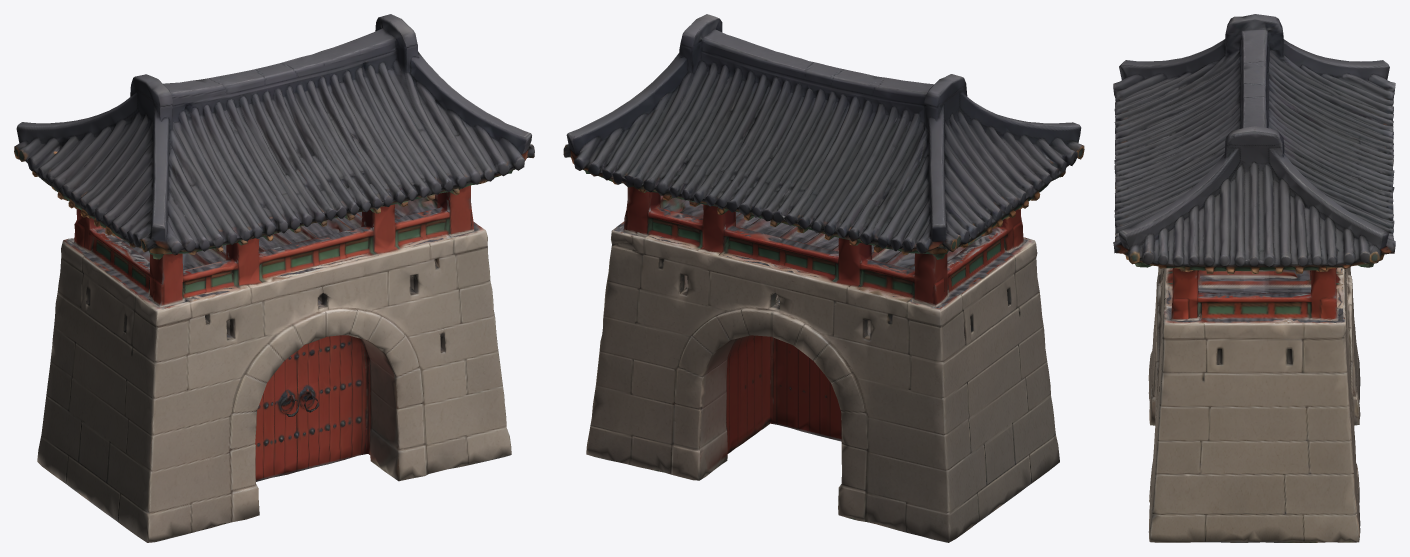
The model's file is gate_high.glb.
The picture shows the model from 3 angles, left to right: view 1: azimuth 30°, elevation 25°; view 2: azimuth 150°, elevation 25°; view 3: azimuth 270°, elevation 25°; orthographic projection. The views are drawn at different scales.
Parts seen in each view (by area): view 1: texture_mapping; view 2: texture_mapping; view 3: texture_mapping.
Part boxes in pixels (x1,y1,x2,y2): texture_mapping: (14,14,534,542); texture_mapping: (563,14,1084,542); texture_mapping: (1113,14,1395,542).
Bounding box in the file's own units: 0.994 × 0.9956 × 0.6593.
Materials: 1 (1 with a texture image).
